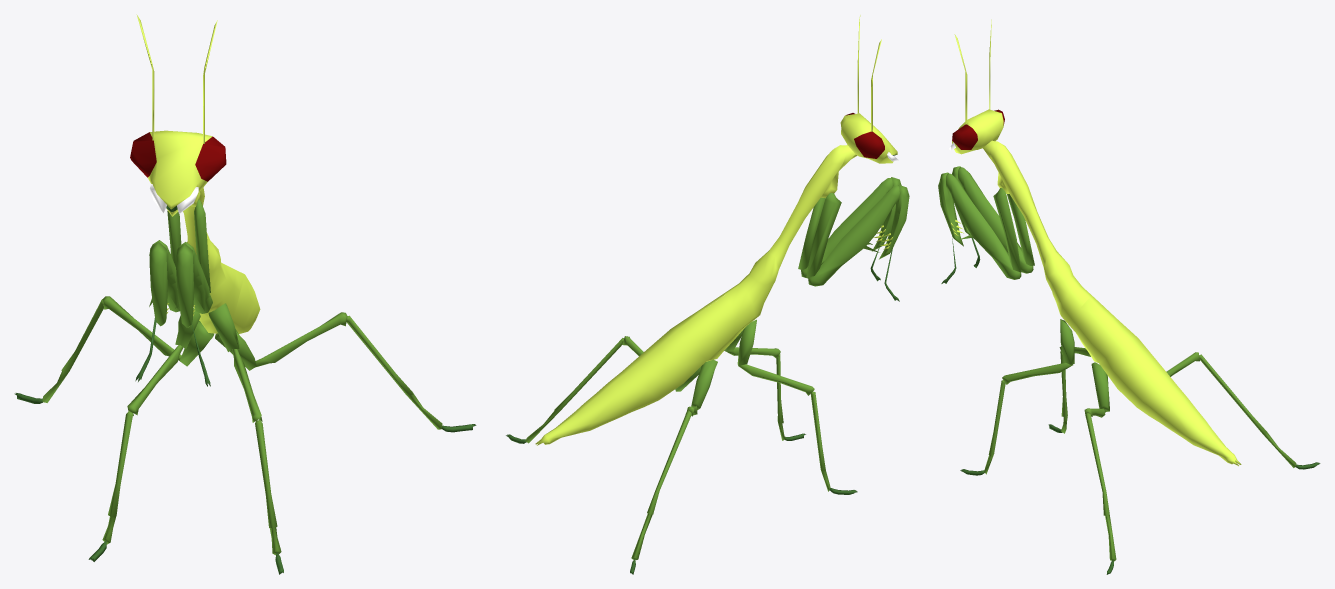
The model's file is Mantis.glb.
3 renders of one model, left to right at view 1: azimuth 30°, elevation 25°; view 2: azimuth 150°, elevation 25°; view 3: azimuth 270°, elevation 25°, orthographic. The views are drawn at different scales.
Visible parts, largest first — view 1: Mantis; view 2: Mantis; view 3: Mantis.
Boxes of the visible parts, box(x1,y1,x2,y2) form: Mantis: box(14, 14, 476, 574); Mantis: box(506, 15, 909, 574); Mantis: box(938, 19, 1320, 574).
Size of what is drawn, in the model's own units: 0.3012 by 0.3831 by 0.32.
Materials: 1 (1 with a texture image).
